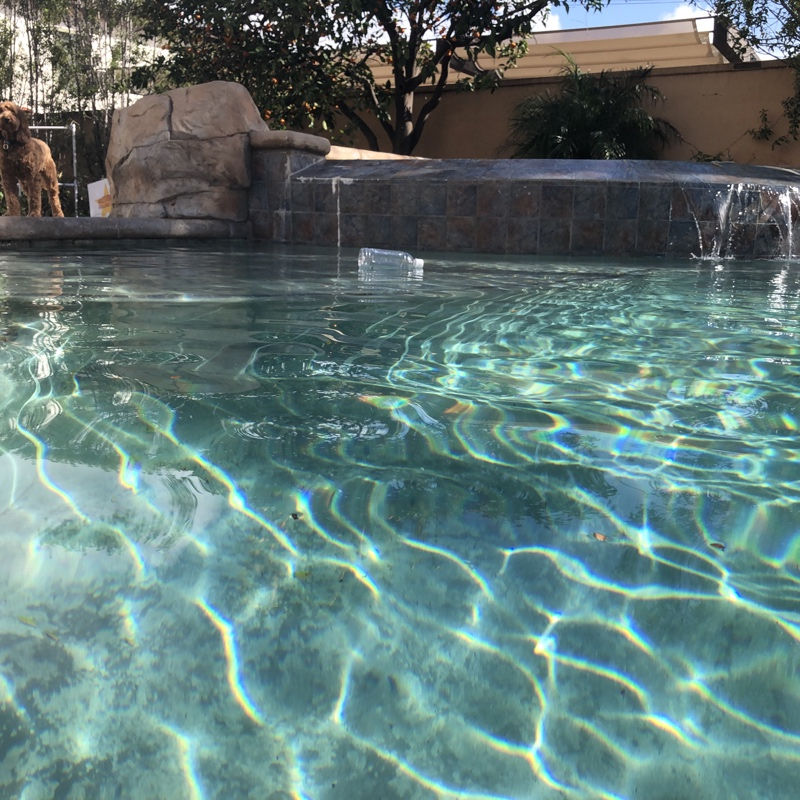Plastic Bottle: (356, 245, 425, 280)
